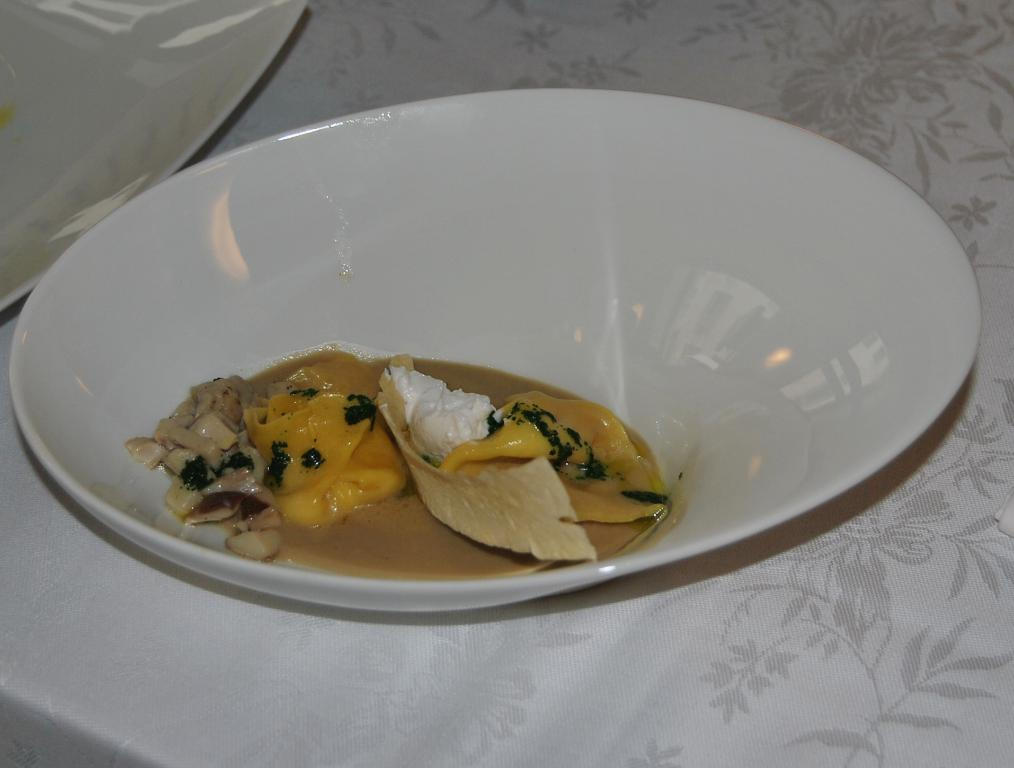plate: (8, 83, 983, 614)
